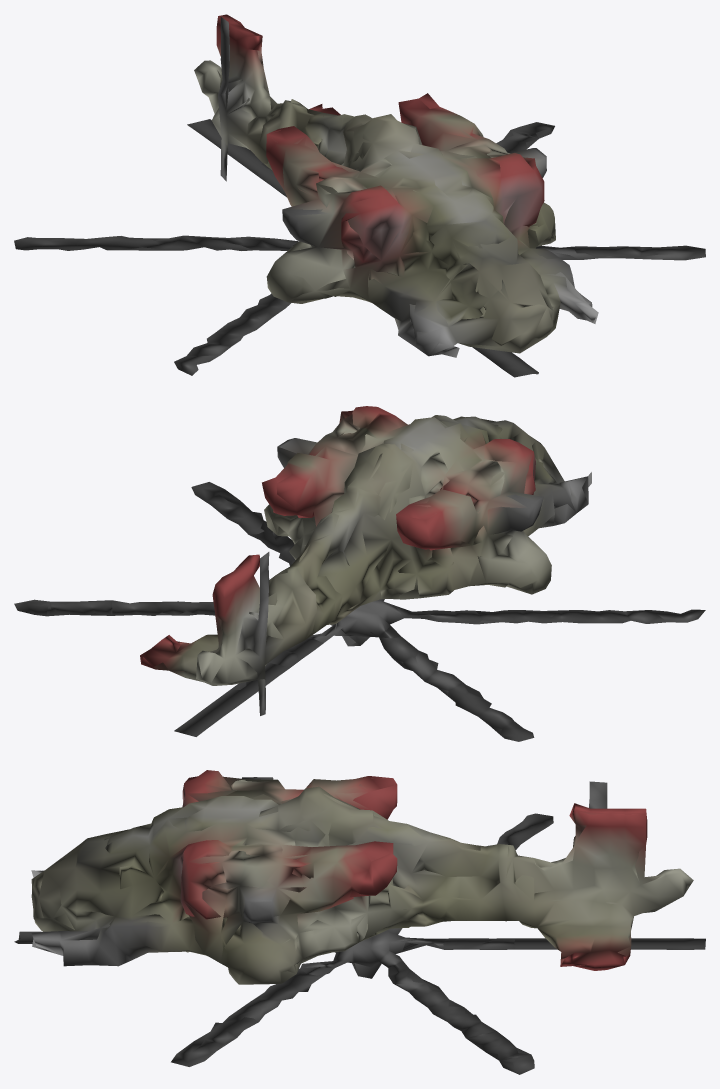
The model's file is siege_chopper.glb.
3 views of the same model, one above another, from view 1: azimuth 30°, elevation 25°; view 2: azimuth 150°, elevation 25°; view 3: azimuth 270°, elevation 25° (orthographic).
Visible parts, largest first — view 1: Hull; view 2: Hull; view 3: Hull.
Part boxes in pixels (x1,y1,x2,y2): Hull: [14, 14, 705, 377]; Hull: [14, 406, 705, 741]; Hull: [14, 770, 705, 1074].
Bounding box in the file's own units: 6.61 × 2.16 × 7.39.
